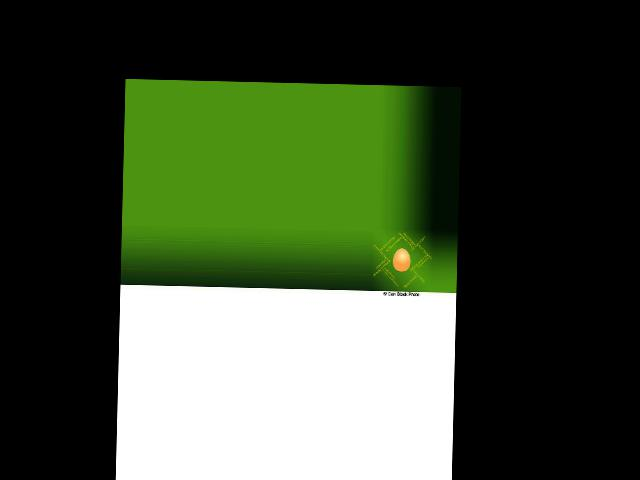egg: (392, 247, 411, 271)
